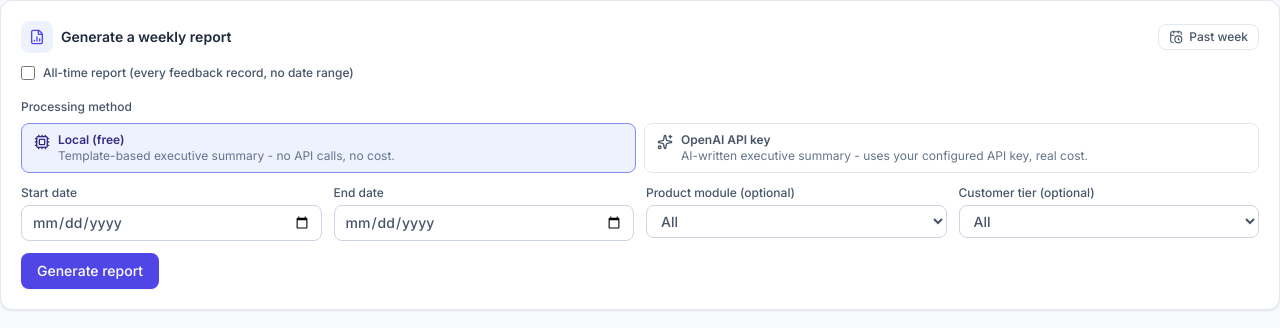
it: ReportGenerationForm › fills in the last 7 days when 'Past week' is clicked
Click the button "Past week": (1209, 37) left=1158, top=24, right=1259, bottom=50
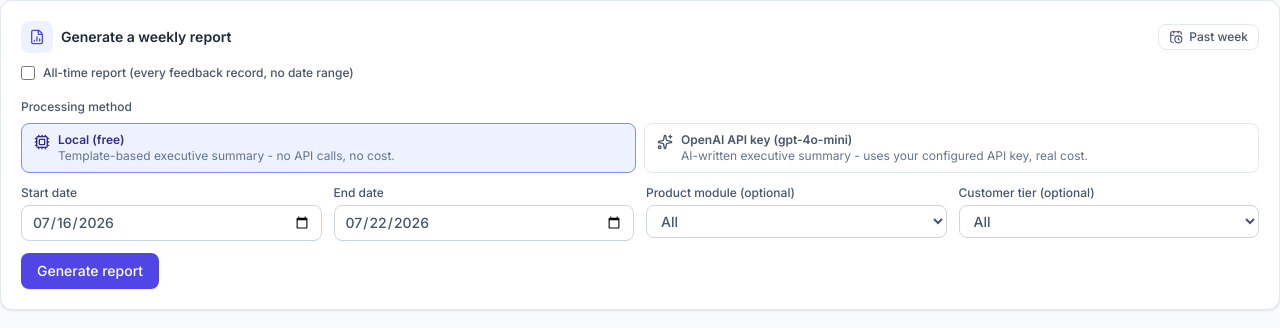
Expected: the date field labelled "Start date" is not empty, left=21, top=205, right=322, bottom=241
Expected: the date field labelled "End date" is not empty, left=334, top=205, right=634, bottom=241
